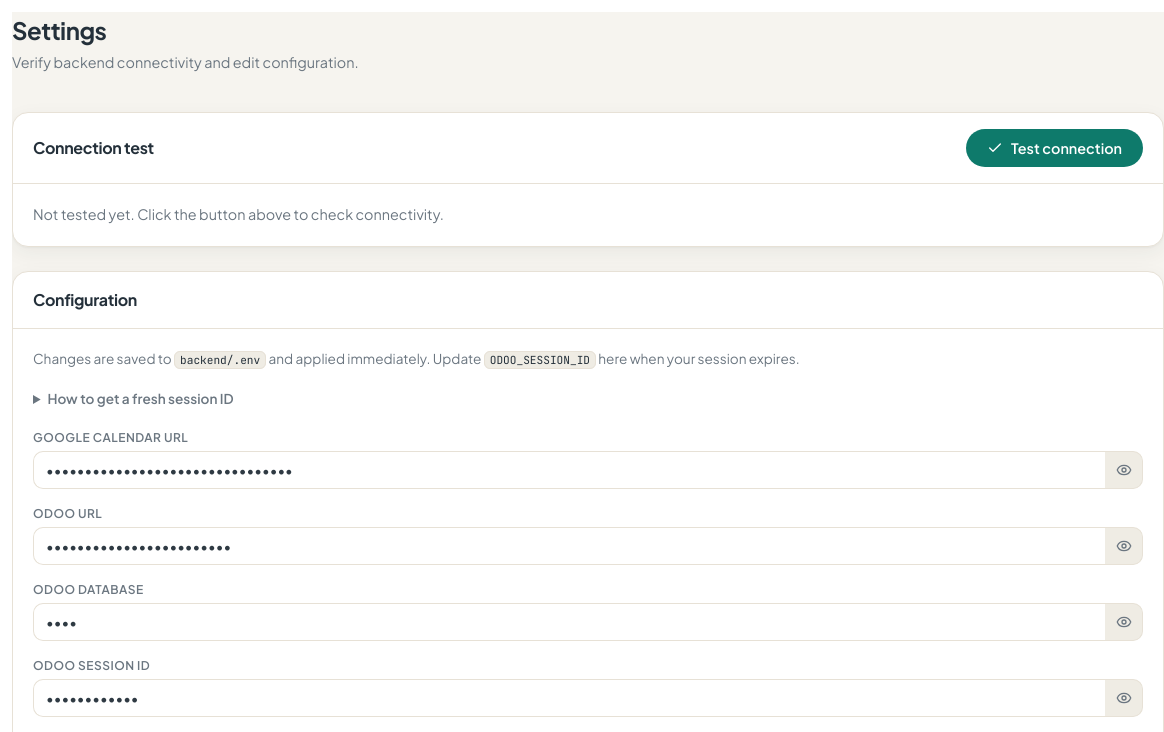
Scenario: Settings page › clicking the eye toggle for a field reveals it (type=text)
Expected: the password field labelled "Odoo URL" is shown, top-left (33, 527), bottom-right (1105, 565)
Click the button named "Show ODOO_URL" at x=1124, y=546, box top-left (1105, 527), bottom-right (1143, 565)
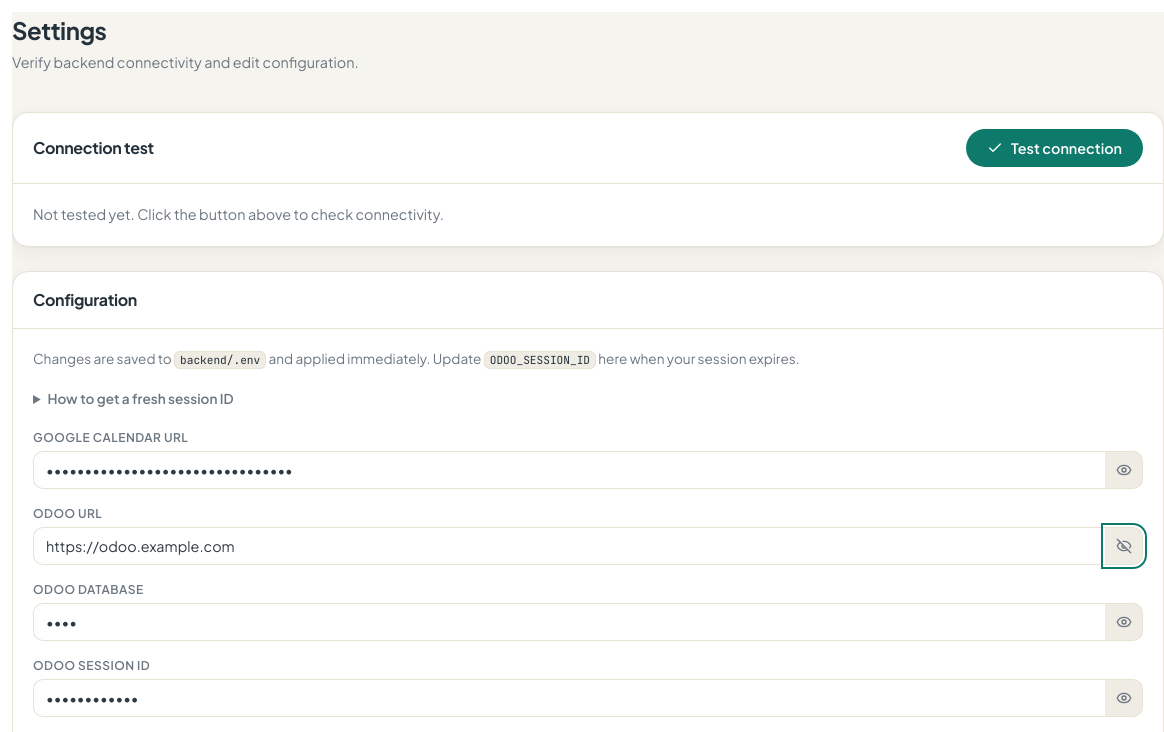
Result: the field labelled "Odoo URL" shows its text at top-left (33, 527), bottom-right (1105, 565)
